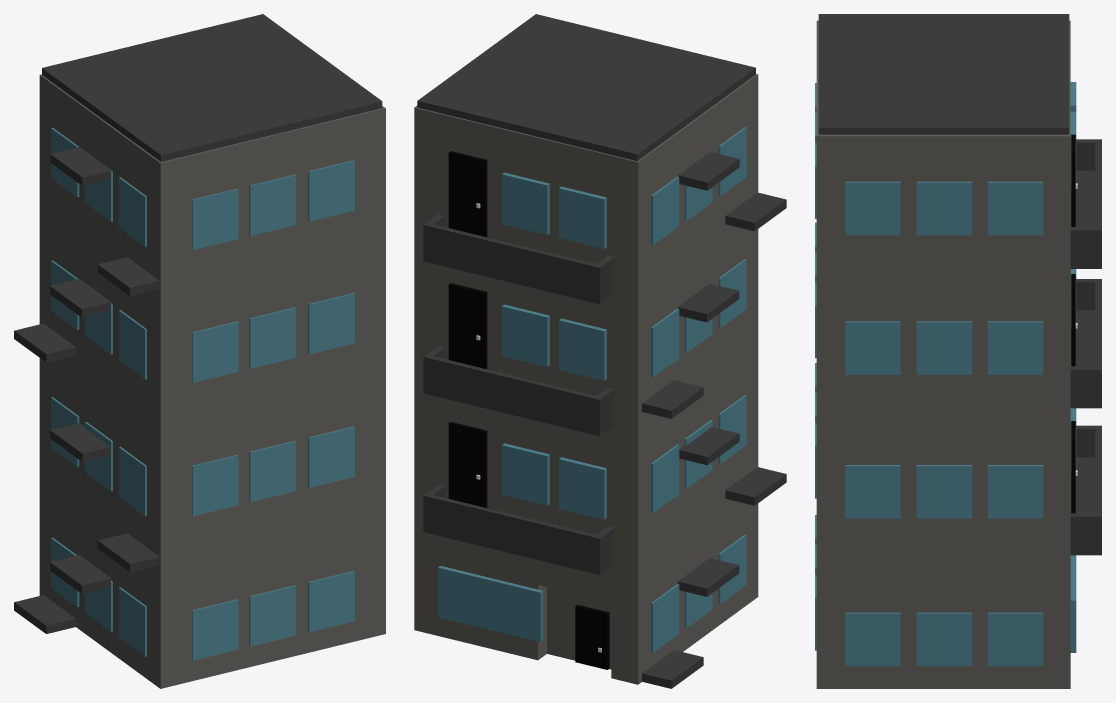
File: building3.glb
3 views of the same model, side by side, from view 1: azimuth 30°, elevation 25°; view 2: azimuth 150°, elevation 25°; view 3: azimuth 270°, elevation 25° (orthographic). The views are drawn at different scales.
Parts seen in each view (by area): view 1: Cube, Cube.041, Cube.034, Cube.044, Cube.032, Cube.036, Cube.029, Cube.030, Cube.031, Cube.033, Cube.035, Cube.037 (+22 smaller); view 2: Cube, Cube.041, Cube.002, Cube.008, Cube.053, Cube.010, Cube.007, Cube.054, Cube.003, Cube.001, Cube.009, Cube.052 (+24 smaller); view 3: Cube, Cube.041, Cube.002, Cube.008, Cube.053, Cube.021, Cube.022, Cube.046, Cube.047, Cube.020, Cube.048, Cube.023 (+9 smaller).
Part boxes in pixels (x1=…): Cube: x1=39, y1=74, x2=385, y2=688; Cube.041: x1=42, y1=14, x2=382, y2=161; Cube.034: x1=192, y1=454, x2=238, y2=516; Cube.044: x1=249, y1=174, x2=295, y2=236; Cube.032: x1=308, y1=426, x2=354, y2=487; Cube.036: x1=249, y1=585, x2=295, y2=646; Cube.029: x1=192, y1=321, x2=238, y2=382; Cube.030: x1=249, y1=307, x2=295, y2=368; Cube.031: x1=308, y1=293, x2=354, y2=354; Cube.033: x1=249, y1=441, x2=295, y2=502; Cube.035: x1=192, y1=599, x2=238, y2=660; Cube.037: x1=308, y1=571, x2=354, y2=632; Cube: x1=414, y1=74, x2=758, y2=684; Cube.041: x1=417, y1=14, x2=755, y2=160; Cube.002: x1=423, y1=485, x2=614, y2=574; Cube.008: x1=423, y1=346, x2=614, y2=436; Cube.053: x1=423, y1=214, x2=614, y2=304; Cube.010: x1=438, y1=566, x2=543, y2=642; Cube.007: x1=448, y1=283, x2=487, y2=369; Cube.054: x1=448, y1=151, x2=487, y2=237; Cube.003: x1=448, y1=422, x2=487, y2=507; Cube.001: x1=502, y1=443, x2=549, y2=505; Cube.009: x1=502, y1=304, x2=549, y2=366; Cube.052: x1=502, y1=172, x2=549, y2=234; Cube: x1=816, y1=20, x2=1070, y2=688; Cube.041: x1=818, y1=14, x2=1069, y2=134; Cube.002: x1=1070, y1=425, x2=1101, y2=555; Cube.008: x1=1070, y1=279, x2=1101, y2=408; Cube.053: x1=1070, y1=139, x2=1101, y2=268; Cube.021: x1=916, y1=612, x2=972, y2=666; Cube.022: x1=987, y1=612, x2=1043, y2=666; Cube.046: x1=987, y1=181, x2=1043, y2=235; Cube.047: x1=916, y1=181, x2=972, y2=235; Cube.020: x1=845, y1=612, x2=900, y2=666; Cube.048: x1=845, y1=181, x2=900, y2=235; Cube.023: x1=987, y1=465, x2=1043, y2=518.
Bounding box in the file's own units: 4.03 × 7.99 × 3.71.
